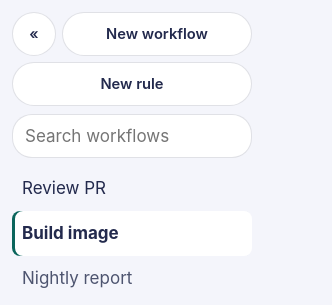
Scenario: WorkflowPane: compact list and search (t21 criterion 1) › filters names case-insensitively as you type, and Escape clears the search
Type "REVIEW" into the search field labelled "Search workflows".
click(132, 136); type("REVIEW")  # box [12, 114, 252, 158]
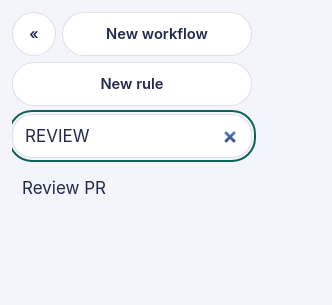
Now the links read "Review PR", in this order, box [22, 178, 106, 198]
Replace the text in the search field named "Search workflows" with "zzz" at (132, 136), box [12, 114, 252, 158]
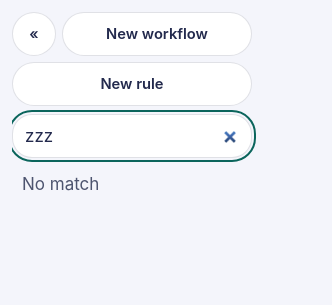
Now no links are shown
Now the text "No match" is shown, box [22, 174, 99, 194]
Press Escape
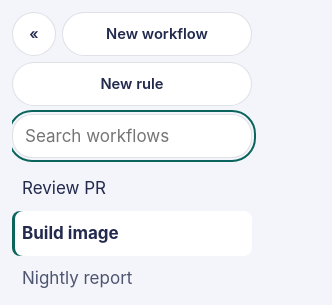
Now the number of links is 3, box [22, 178, 106, 198]; [12, 211, 252, 256]; [22, 268, 132, 288]
